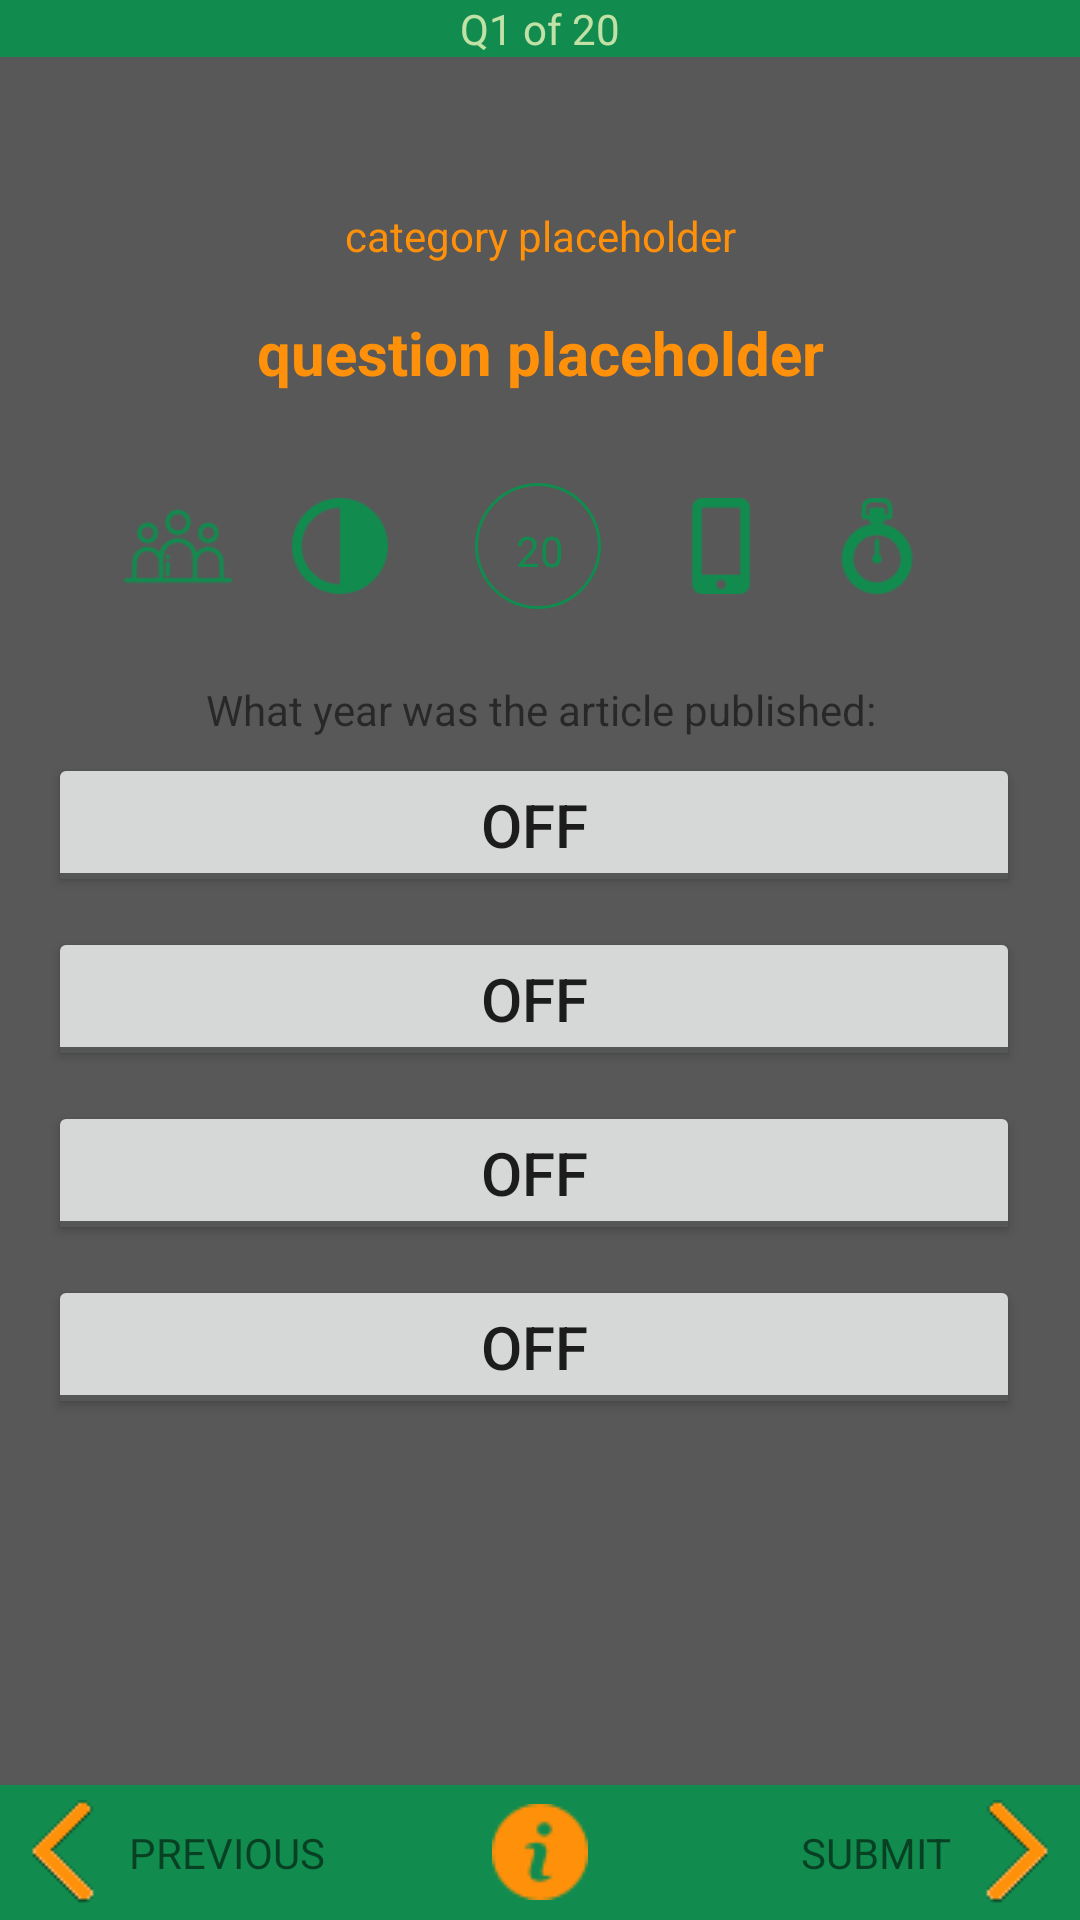

Named icons in this screenshot (1080px x 1920px) and their centers, [x,y]:
audience: [178,546]
back: [63,1851]
freeze time: [877,546]
next: [1017,1851]
phone call: [721,546]
play info: [540,1852]
